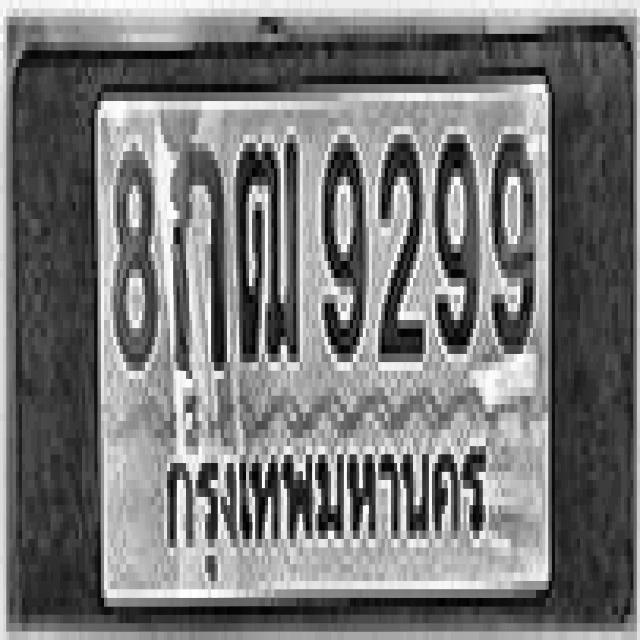license-plate: (14, 48, 628, 623)
